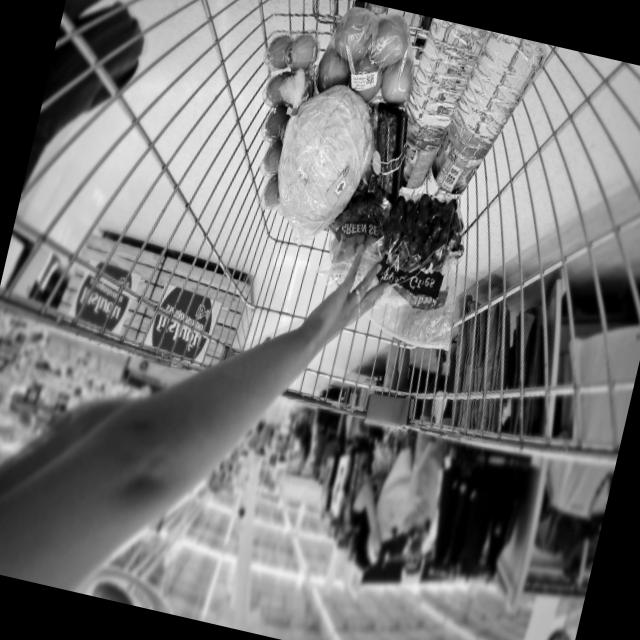apple: (303, 0, 430, 119)
bap cai: (263, 68, 393, 246)
egg: (232, 22, 326, 210)
grape: (364, 181, 487, 310)
